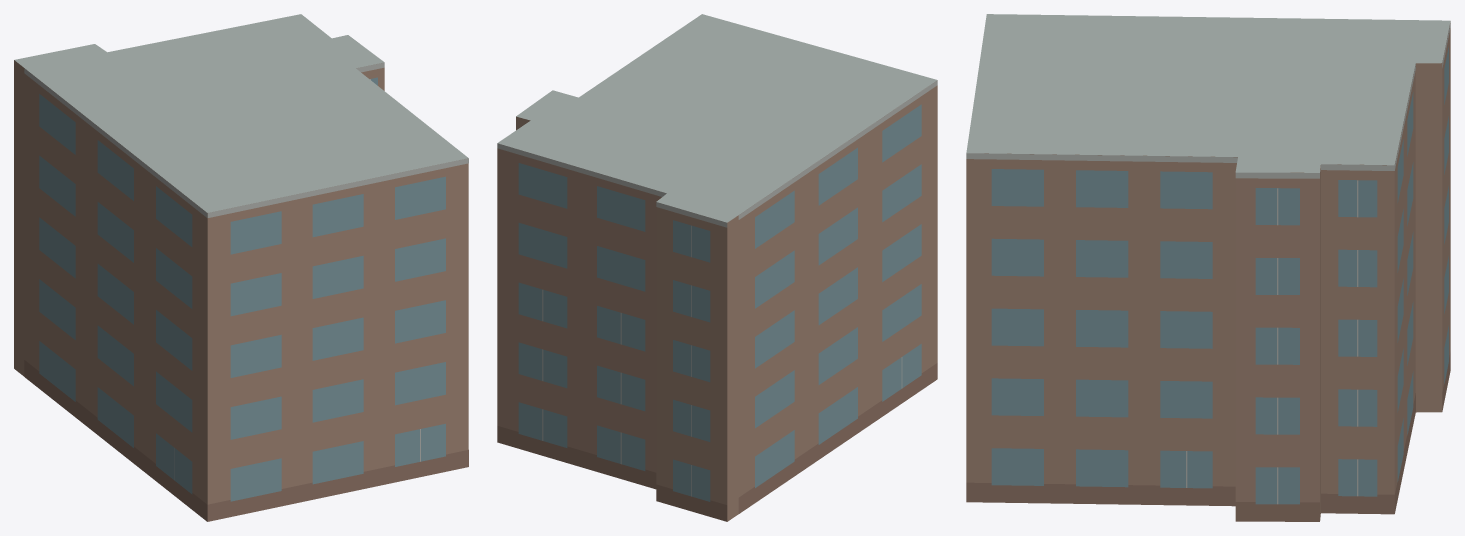
The model's file is survey-upis-33009105.glb.
The picture shows the model from 3 angles, left to right: view 1: azimuth 30°, elevation 25°; view 2: azimuth 150°, elevation 25°; view 3: azimuth 270°, elevation 25°; orthographic projection. The views are drawn at different scales.
Visible parts, largest first — view 1: survey-upis-33009105.tmp; view 2: survey-upis-33009105.tmp; view 3: survey-upis-33009105.tmp.
Boxes of the visible parts, left/top/right/bottom form: survey-upis-33009105.tmp: left=14, top=14, right=468, bottom=521; survey-upis-33009105.tmp: left=497, top=14, right=937, bottom=521; survey-upis-33009105.tmp: left=966, top=14, right=1450, bottom=521.
Size of the model in its own units: 14.07 by 14.4 by 18.12.
